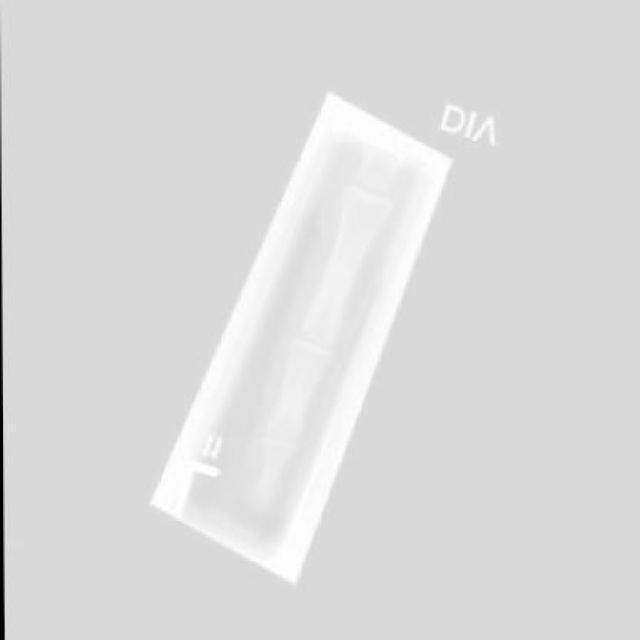Fracture: (252, 465, 291, 508)
